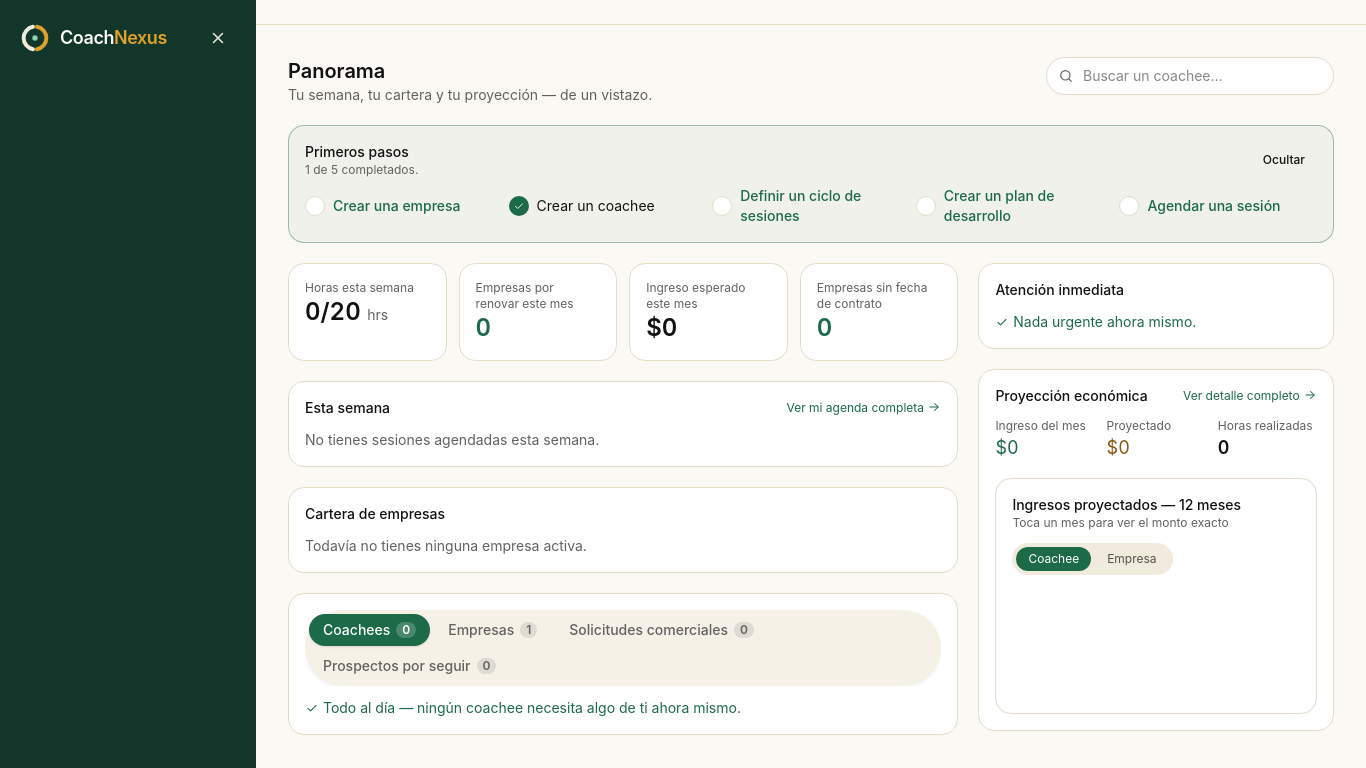
Test: DashboardView › lists empresas with contrato/NDA pendiente in the Empresas tab
The width and height of the screenshot is (1366, 768).
Click the tab "Empresas 1".
click(493, 630)  # box [434,614,551,646]
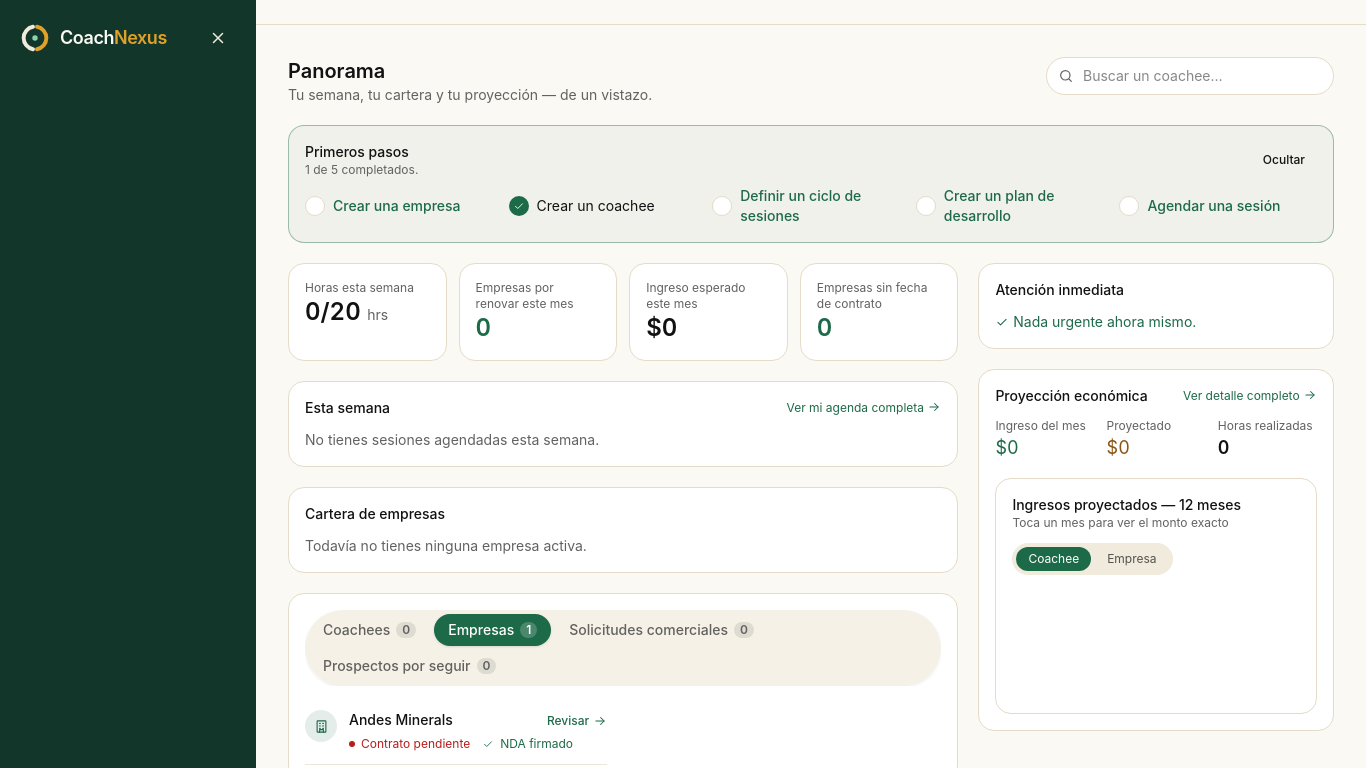
Expected: the text "contrato" is shown, [817,280,928,311]
Now the text "Andes Minerals" is shown, box [349,710,453,730]
